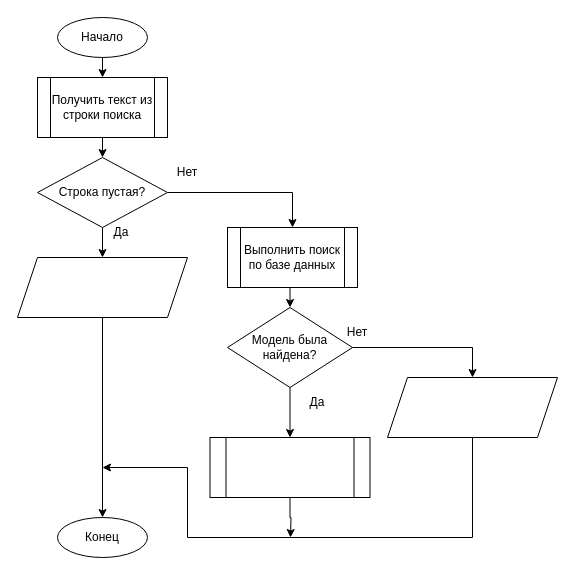
Image size: 575x575. Some labels were removed from this diagram. Here are the shapes that lost their labels. From the top down, the centre of each, then its label:
At point 102,287: "Вывести сообщение об ошибке.".
At point 472,407: "Вывести сообщение об отсутствии совпадений.".
At point 289,467: "Вывести информацию о траспортном средстве на экран".
